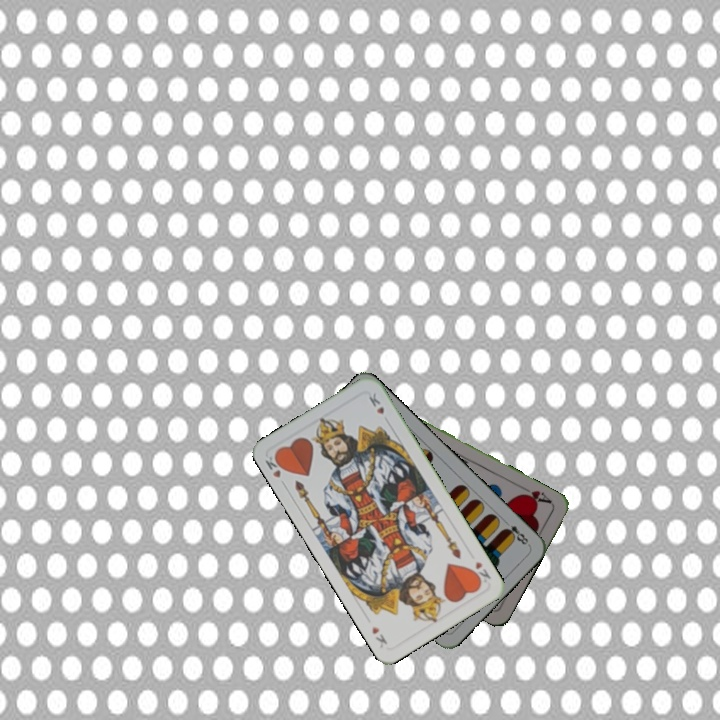E8: (499, 516, 532, 548)
HA: (516, 482, 554, 506)
HK: (261, 450, 289, 490), (468, 557, 493, 587)
